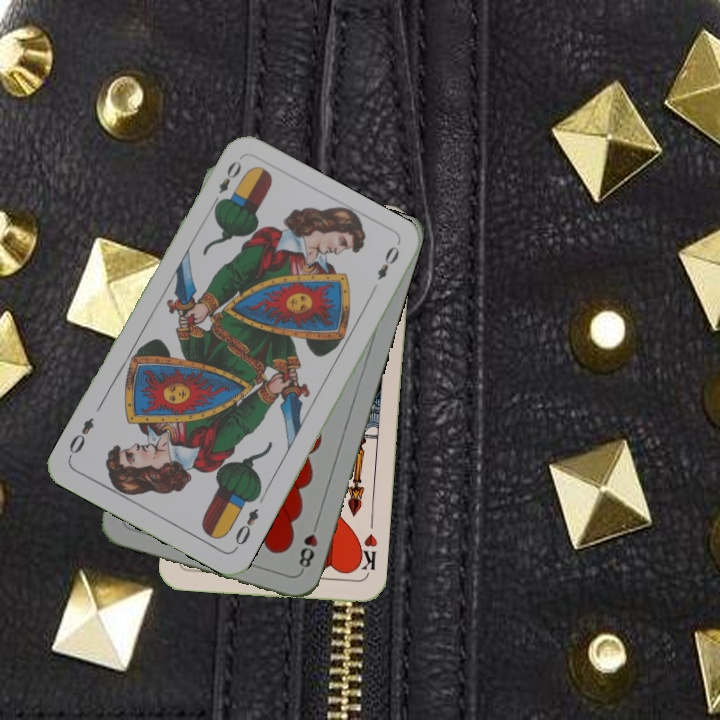EO: (207, 156, 244, 211), (231, 504, 261, 553)
H8: (295, 516, 321, 574)
HK: (352, 529, 380, 573)
